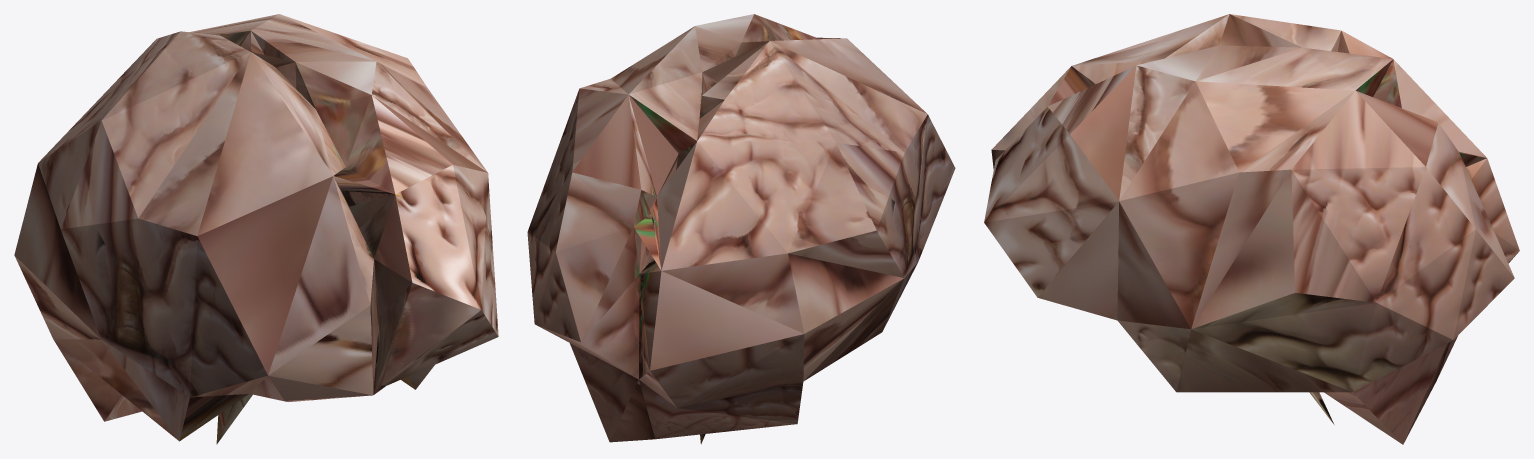
Rendered from brain4.glb.
3 views of the same model, side by side, from view 1: azimuth 30°, elevation 25°; view 2: azimuth 150°, elevation 25°; view 3: azimuth 270°, elevation 25° (orthographic). The views are drawn at different scales.
Parts seen in each view (by area): view 1: Mesh_0.001; view 2: Mesh_0.001; view 3: Mesh_0.001.
Part boxes in pixels (x1,y1,x2,y2): Mesh_0.001: (14,14,498,444); Mesh_0.001: (527,14,955,444); Mesh_0.001: (984,14,1519,444).
Bounding box in the file's own units: 1.49 × 1.68 × 2.03.
Materials: 1 (1 with a texture image).
